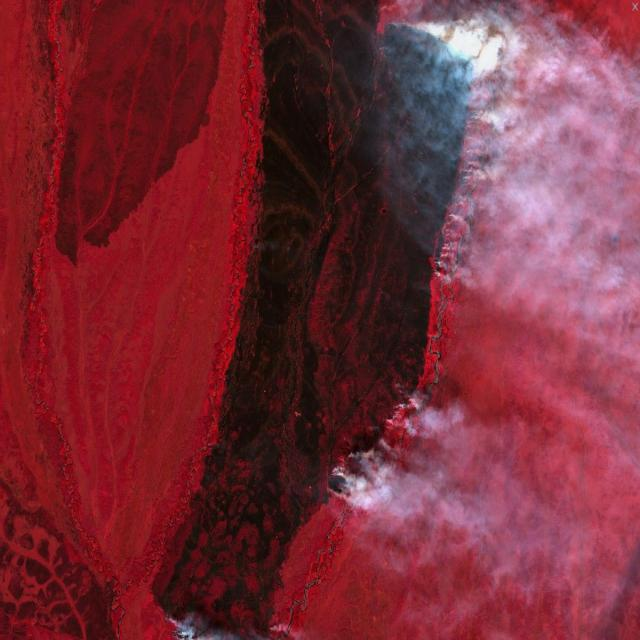fire: (310, 0, 494, 533), (164, 601, 310, 640)
